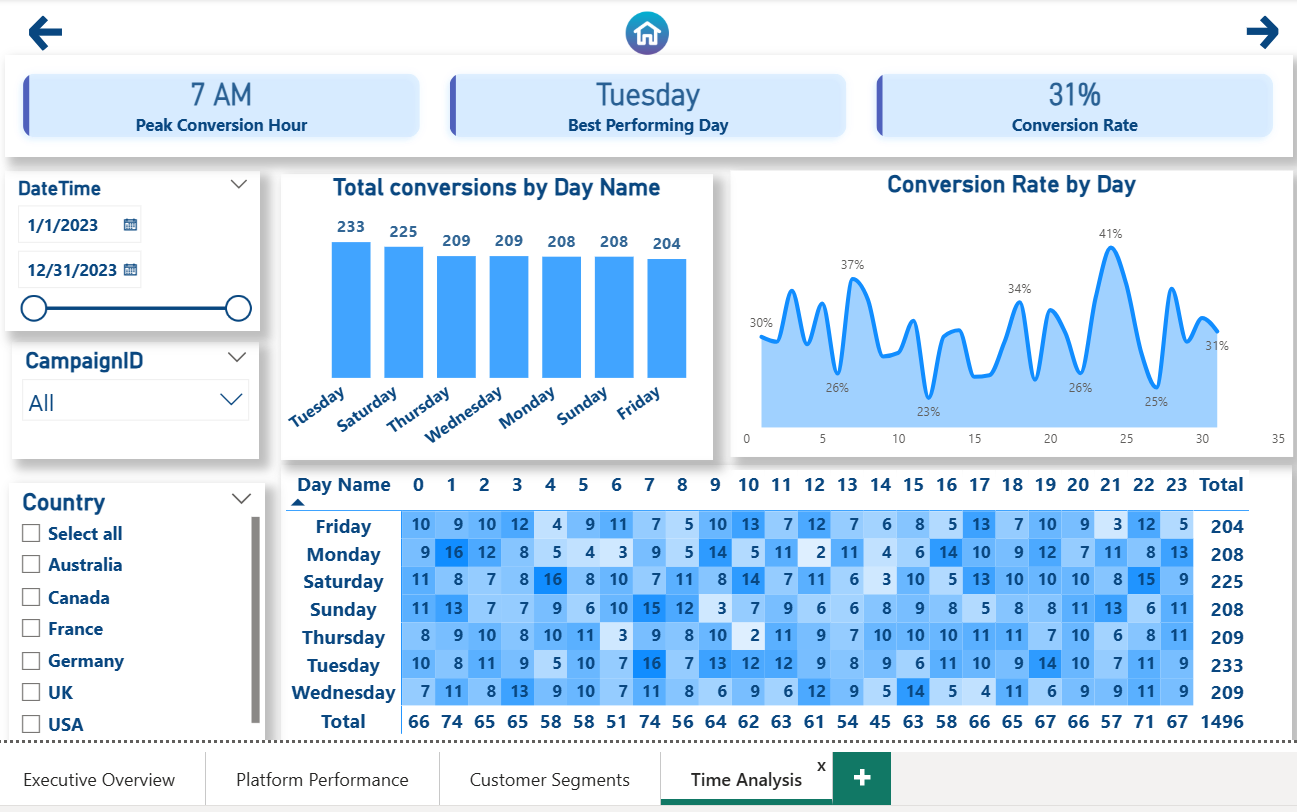

This screenshot's page, from the dashboard's own definition file:
{"tool":"powerbi","page":{"name":"Time Analysis","canvas":[1280,720],"ordinal":3},"visuals":[{"type":"actionButton","box":[0,13,102,42.1],"z":0},{"type":"actionButton","box":[1178.8,13,102,40.5],"z":1000},{"type":"image","box":[574.8,13,118.2,42.1],"z":2000},{"type":"cardVisual","fields":{"Data":["FitBitDataMarketing.Peak Conversion Hour (Formatted)","FitBitDataMarketing.Best Performing Day","FitBitDataMarketing.Conversion Rate"]},"box":[9.7,55.1,1250,98.8],"z":3000},{"type":"areaChart","fields":{"Category":["FitBitDataMarketing.DateTime.Variation.Date Hierarchy.Day"],"Y":["FitBitDataMarketing.Conversion Rate"]},"box":[714,168,546,278],"z":4000},{"type":"pivotTable","fields":{"Rows":["FitBitDataMarketing.Day Name"],"Columns":["FitBitDataMarketing.Hour"],"Values":["FitBitDataMarketing.Total conversions"]},"box":[278,452,982,268],"z":5000},{"type":"slicer","fields":{"Values":["FitBitDataMarketing.DateTime"]},"box":[10,168,248,156],"z":6000},{"type":"slicer","fields":{"Values":["FitBitDataMarketing.CampaignID"]},"box":[18,334,240,114],"z":7000},{"type":"slicer","fields":{"Values":["FitBitDataMarketing.Country"]},"box":[14,470,248,250],"z":8000},{"type":"clusteredColumnChart","fields":{"Y":["FitBitDataMarketing.Total conversions"],"Category":["FitBitDataMarketing.Day Name"]},"box":[278,170,420,278],"z":9000}]}

Visuals, with their boxes on the page's 1280x720 design canvas (x1, y1, x2, y2). These are canvas units, not pixel positions in the 1297x812 screenshot, which may show the page scaled, cropped or inside an application window:
actionButton: box(0, 13, 102, 55)
actionButton: box(1179, 13, 1281, 54)
image: box(575, 13, 693, 55)
cardVisual - FitBitDataMarketing.Peak Conversion Hour (Formatted) x FitBitDataMarketing.Best Performing Day: box(10, 55, 1260, 154)
areaChart - FitBitDataMarketing.DateTime.Variation.Date Hierarchy.Day x FitBitDataMarketing.Conversion Rate: box(714, 168, 1260, 446)
pivotTable - FitBitDataMarketing.Day Name x FitBitDataMarketing.Hour: box(278, 452, 1260, 720)
slicer - FitBitDataMarketing.DateTime: box(10, 168, 258, 324)
slicer - FitBitDataMarketing.CampaignID: box(18, 334, 258, 448)
slicer - FitBitDataMarketing.Country: box(14, 470, 262, 720)
clusteredColumnChart - FitBitDataMarketing.Total conversions x FitBitDataMarketing.Day Name: box(278, 170, 698, 448)
